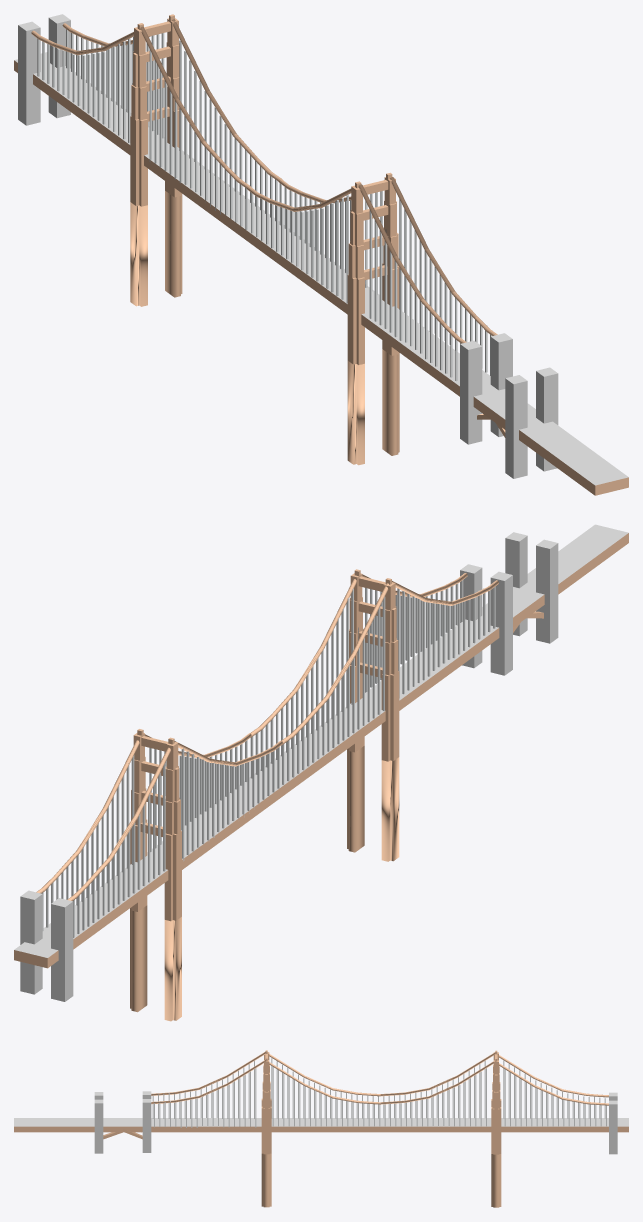
Rendered from Busan_Gwangandaegyo.fbx.
3 views of the same model, one above another, from view 1: azimuth 30°, elevation 25°; view 2: azimuth 150°, elevation 25°; view 3: azimuth 270°, elevation 25° (orthographic). The views are drawn at different scales.
Visible parts, largest first — view 1: model; view 2: model; view 3: model.
Boxes of the visible parts, x1,y1,x2,y2 form: model: (14, 14, 628, 495); model: (14, 524, 628, 1021); model: (14, 1050, 628, 1207).
Size of the model in its own units: 43 by 245 by 923.
